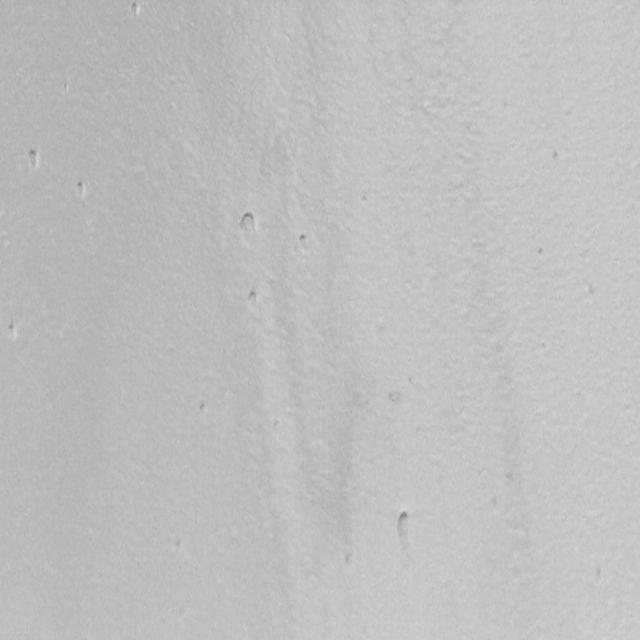pin holes: (390, 509, 414, 548), (237, 210, 263, 240), (386, 386, 410, 406), (24, 148, 42, 172), (293, 231, 312, 253), (196, 397, 213, 419), (127, 0, 145, 20), (74, 180, 91, 200), (246, 289, 262, 309), (342, 550, 356, 568), (7, 323, 20, 341), (60, 80, 72, 96), (175, 538, 182, 554), (596, 567, 602, 585), (360, 196, 369, 206), (273, 420, 279, 434), (552, 151, 561, 160), (538, 246, 544, 258), (540, 341, 546, 352)
